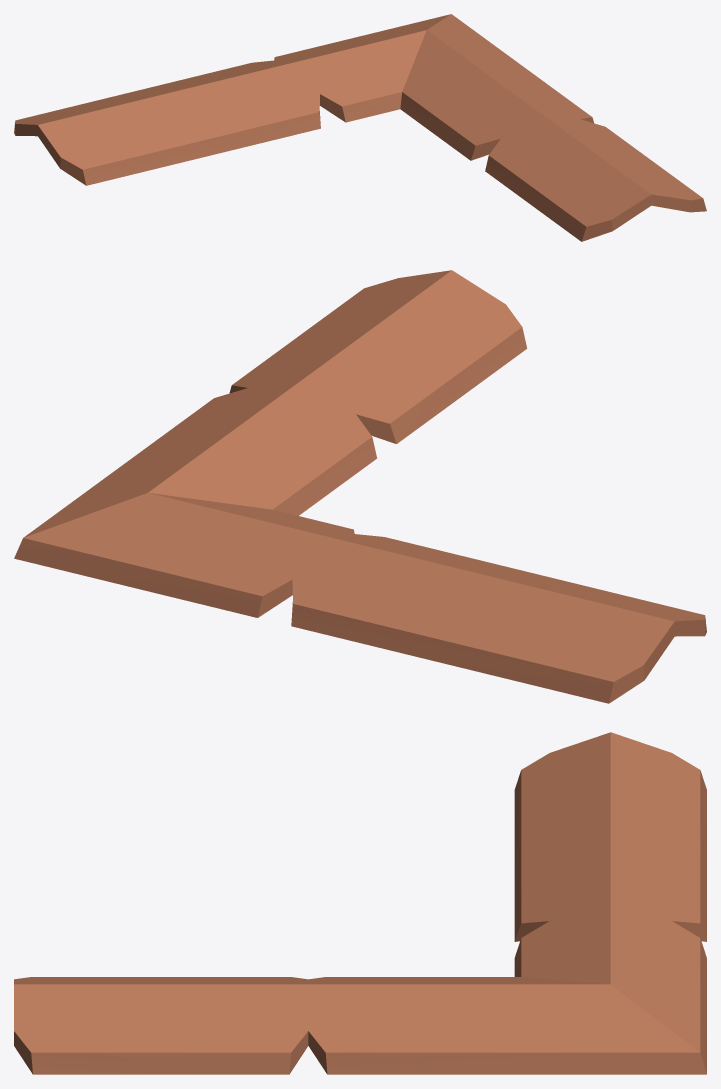
The model's file is empire-roof-top-turn-3m-empire.glb.
3 views of the same model, one above another, from view 1: azimuth 30°, elevation 25°; view 2: azimuth 150°, elevation 25°; view 3: azimuth 270°, elevation 25° (orthographic). The views are drawn at different scales.
Visible parts, largest first — view 1: SM_Roof_Top_Turn_3m_Empire; view 2: SM_Roof_Top_Turn_3m_Empire; view 3: SM_Roof_Top_Turn_3m_Empire.
Boxes of the visible parts, <box> form: SM_Roof_Top_Turn_3m_Empire: <box>14,14,706,241</box>; SM_Roof_Top_Turn_3m_Empire: <box>14,270,706,703</box>; SM_Roof_Top_Turn_3m_Empire: <box>14,732,706,1074</box>.
Size of the model in its own units: 1.74 by 0.1378 by 1.74.
